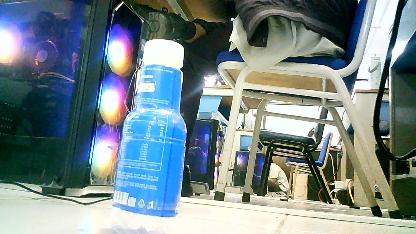Plastic Bottle: (110, 34, 188, 234)
